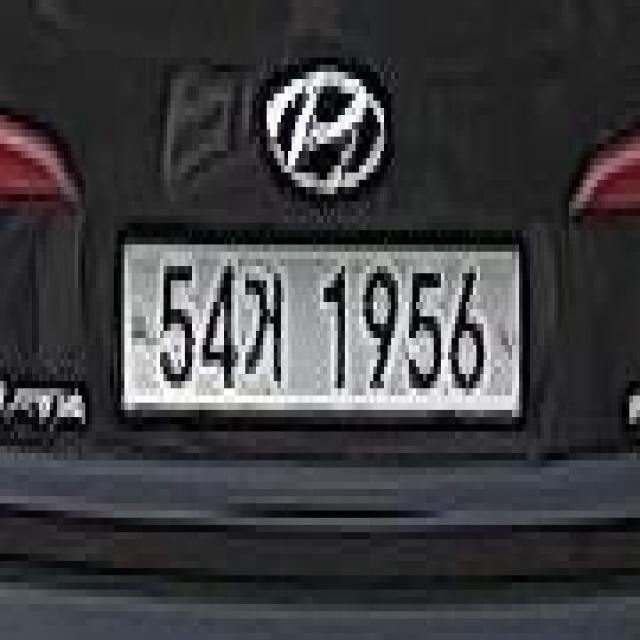1: (312, 264, 354, 392)
4: (205, 258, 244, 390)
5: (153, 258, 202, 390), (406, 264, 444, 388)
6: (448, 264, 488, 394)
9: (360, 262, 402, 394)
geo: (244, 262, 290, 398)
license_plate: (117, 220, 530, 438)
